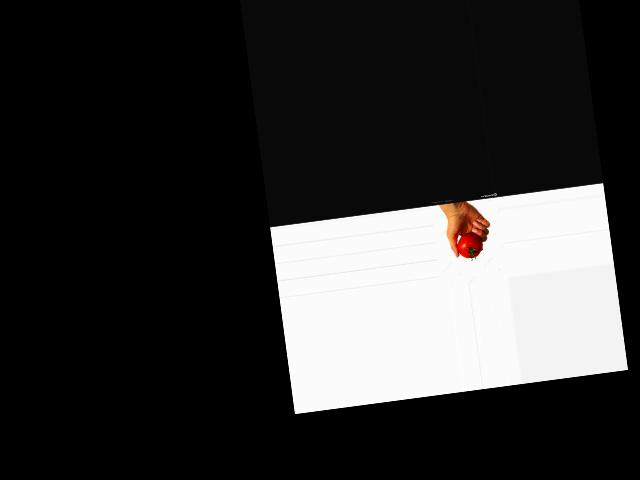tomato: (455, 231, 483, 260)
